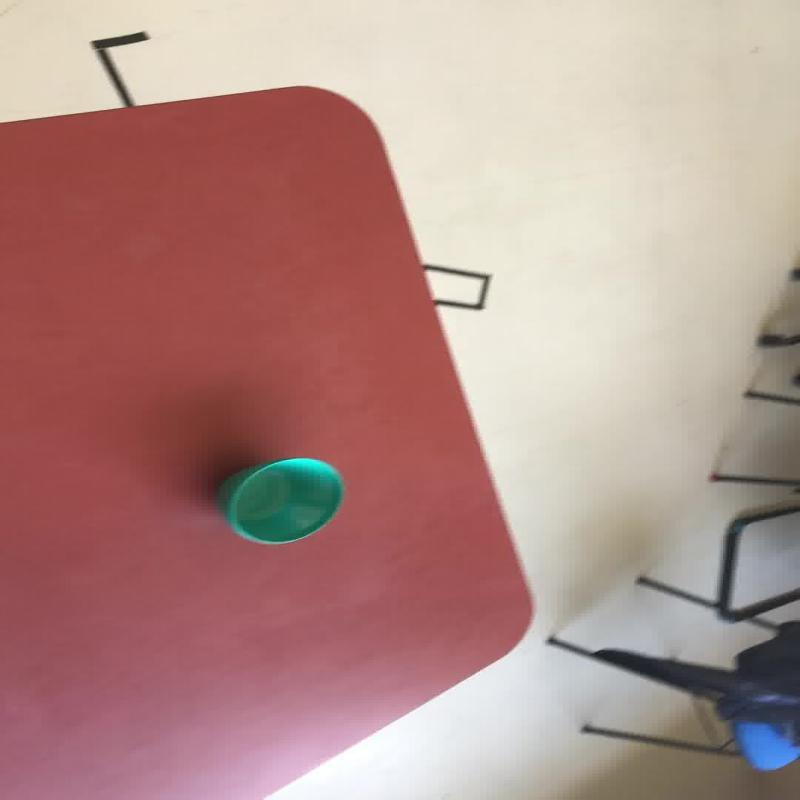bowl: (217, 456, 344, 545)
